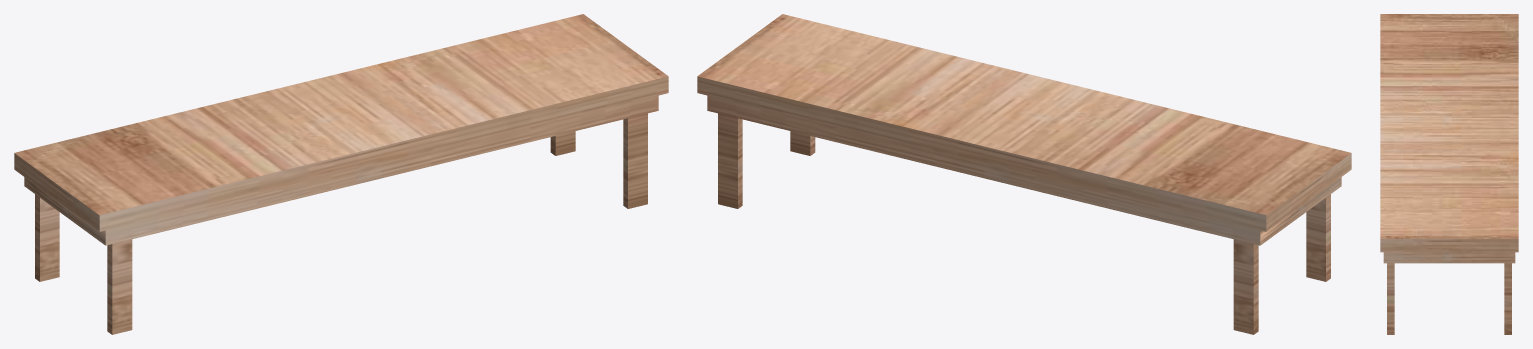
The model's file is mesa1.obj.
3 views of the same model, side by side, from view 1: azimuth 30°, elevation 25°; view 2: azimuth 150°, elevation 25°; view 3: azimuth 270°, elevation 25° (orthographic). The views are drawn at different scales.
Visible parts, largest first — view 1: Mesa.004_Cube.122; view 2: Mesa.004_Cube.122; view 3: Mesa.004_Cube.122.
Boxes of the visible parts, x1,y1,x2,y2 form: Mesa.004_Cube.122: (14,14,668,334); Mesa.004_Cube.122: (697,14,1351,334); Mesa.004_Cube.122: (1380,14,1518,334).
Bounding box in the file's own units: 59.59 × 12.68 × 15.46.
